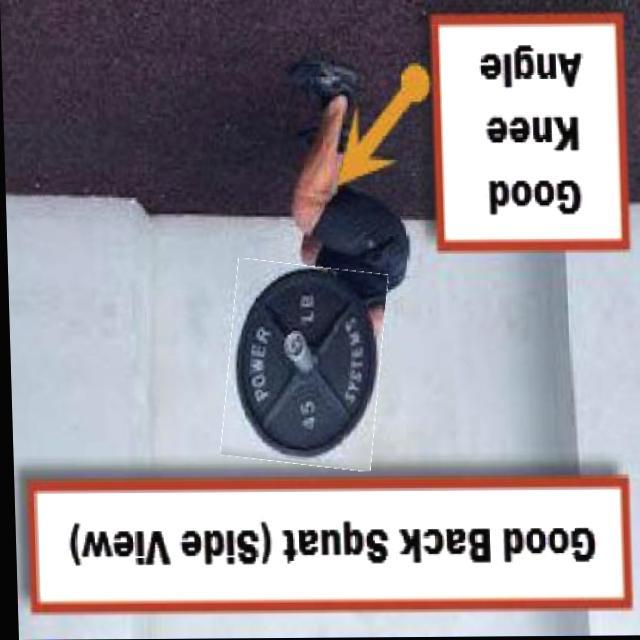barbell: (220, 263, 385, 470)
